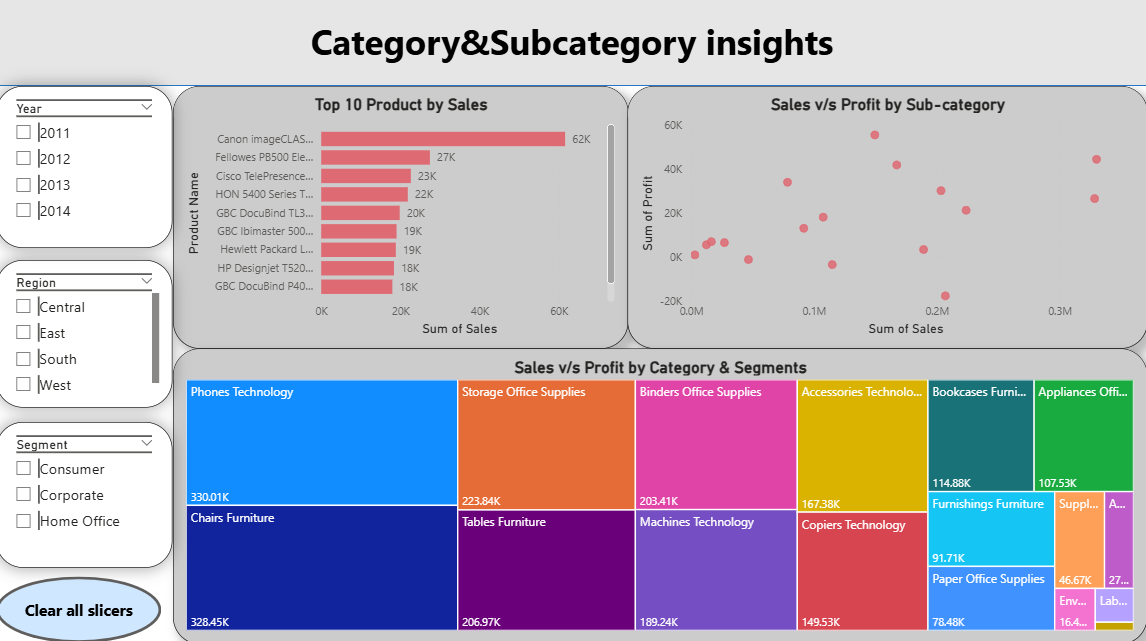

The dashboard page shown, as its layout file describes it:
{"tool":"powerbi","page":{"name":"Category&Subcategory insights","canvas":[1280,720],"ordinal":2},"visuals":[{"type":"barChart","title":"Top 10 Product by Sales","fields":{"Category":["Orders.Product Name"],"Y":["Sum(Orders.Sales)"]},"box":[196,100,506,292],"z":0},{"type":"scatterChart","title":"Sales v/s Profit by Sub-category","fields":{"X":["Sum(Orders.Sales)"],"Y":["Sum(Orders.Profit)"],"Category":["Orders.Sub-Category"]},"box":[701.6,100,577.8,292.1],"z":1000},{"type":"treemap","title":"Sales v/s Profit by Category & Segments","fields":{"Group":["Orders.Sub-Category","Orders.Category"],"Values":["Sum(Orders.Sales)"]},"box":[196.8,392.1,1082.5,328.6],"z":2000},{"type":"shape","box":[0,0,1280,100],"z":3000},{"type":"slicer","fields":{"Values":["Orders.Segment"]},"box":[0,474,196,162],"z":4000},{"type":"slicer","fields":{"Values":["Orders.Region"]},"box":[0,294,196,164],"z":5000},{"type":"slicer","fields":{"Values":["Orders.Order Date.Variation.Date Hierarchy.Year"]},"box":[0,100,196,180],"z":6000},{"type":"actionButton","box":[0,645.4,183.6,73.8],"z":7000}]}

Visuals, with their boxes in screenshot pixels (x1, y1, x2, y2), scaled from the page's 1280x720 canvas onto the 1146x641 screenshot:
"Top 10 Product by Sales" barChart: box(175, 89, 629, 349)
"Sales v/s Profit by Sub-category" scatterChart: box(628, 89, 1145, 349)
"Sales v/s Profit by Category & Segments" treemap: box(176, 349, 1145, 640)
shape: box(0, 0, 1145, 89)
slicer - Orders.Segment: box(0, 422, 175, 566)
slicer - Orders.Region: box(0, 262, 175, 408)
slicer - Orders.Order Date.Variation.Date Hierarchy.Year: box(0, 89, 175, 249)
actionButton: box(0, 575, 164, 640)
